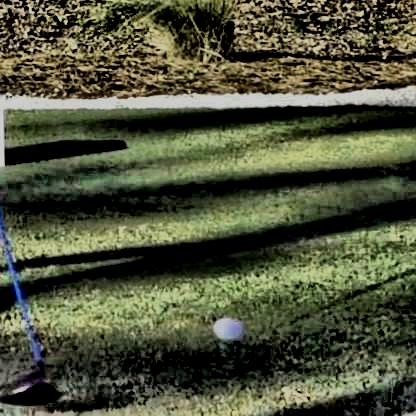golfball: (206, 315, 238, 340)
